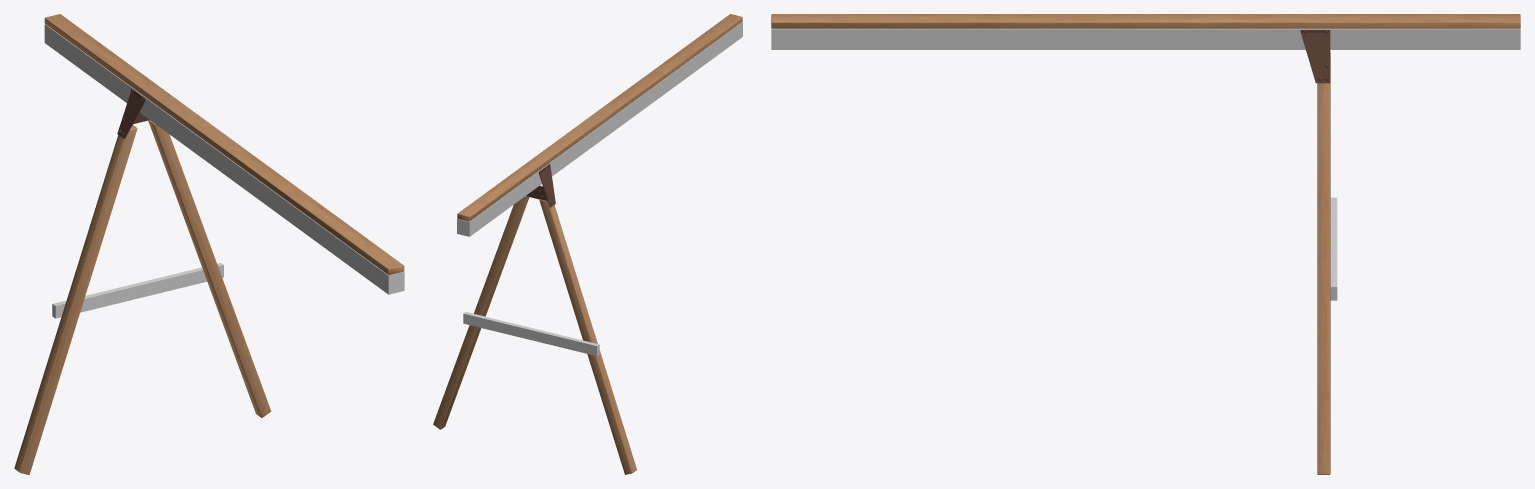
3 renders of one model, left to right at view 1: azimuth 30°, elevation 25°; view 2: azimuth 150°, elevation 25°; view 3: azimuth 270°, elevation 25°, orthographic. The views are drawn at different scales.
Visible parts, largest first — view 1: Plane073, Plane073_1,_colorize_, Plane073_2; view 2: Plane073, Plane073_1,_colorize_, Plane073_2; view 3: Plane073_1,_colorize_, Plane073, Plane073_2.
Part boxes in pixels (left/top/right/bottom): Plane073: left=14, top=14, right=404, bottom=474; Plane073_1,_colorize_: left=44, top=24, right=404, bottom=318; Plane073_2: left=117, top=88, right=149, bottom=138; Plane073: left=433, top=14, right=742, bottom=474; Plane073_1,_colorize_: left=457, top=22, right=742, bottom=355; Plane073_2: left=526, top=164, right=555, bottom=207; Plane073_1,_colorize_: left=771, top=28, right=1520, bottom=300; Plane073: left=771, top=14, right=1520, bottom=474; Plane073_2: left=1300, top=30, right=1330, bottom=83.
Bounding box in the file's own units: 2.41 × 3.33 × 5.72.
Materials: 3 (1 with a texture image).
